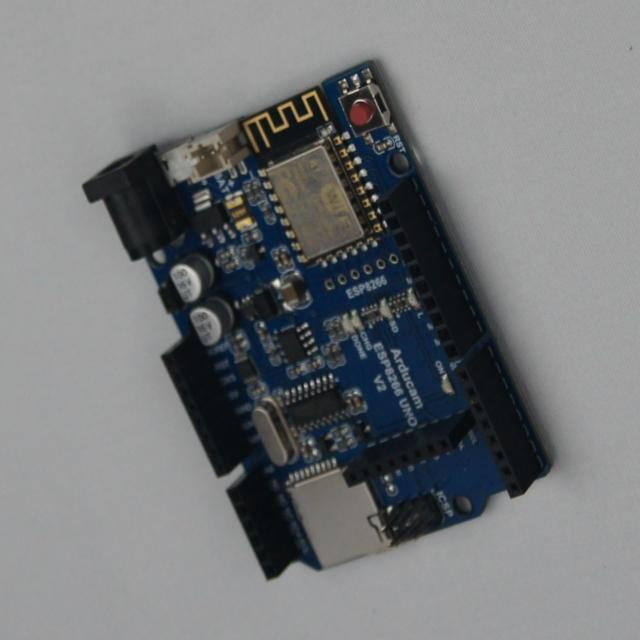Arduino Uno Camera Shield: (84, 62, 550, 579), (169, 214, 189, 237)
